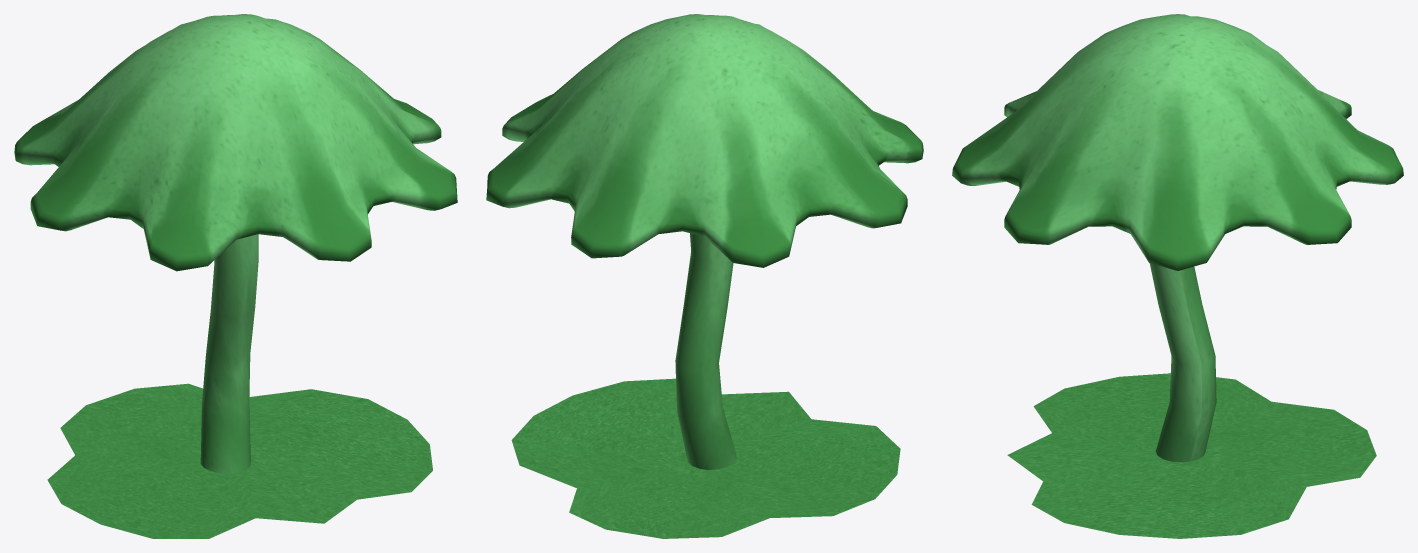
Rendered from badMushroom.fbx.
3 renders of one model, left to right at view 1: azimuth 30°, elevation 25°; view 2: azimuth 150°, elevation 25°; view 3: azimuth 270°, elevation 25°, orthographic.
Visible parts, largest first — view 1: badMushroomCap, badMushroomPlane, badMushroomStem; view 2: badMushroomCap, badMushroomPlane, badMushroomStem; view 3: badMushroomCap, badMushroomPlane, badMushroomStem.
Boxes of the visible parts, left/top/right/bottom form: badMushroomCap: left=14, top=14, right=457, bottom=271; badMushroomPlane: left=47, top=383, right=432, bottom=538; badMushroomStem: left=200, top=234, right=258, bottom=473; badMushroomCap: left=486, top=14, right=923, bottom=267; badMushroomPlane: left=511, top=378, right=900, bottom=538; badMushroomStem: left=675, top=233, right=737, bottom=469; badMushroomCap: left=952, top=14, right=1403, bottom=270; badMushroomPlane: left=1007, top=373, right=1376, bottom=538; badMushroomStem: left=1149, top=263, right=1216, bottom=462.
Size of the model in its own units: 2.07 by 2.19 by 2.07.
